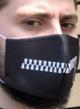with_mask: (2, 1, 80, 109)
